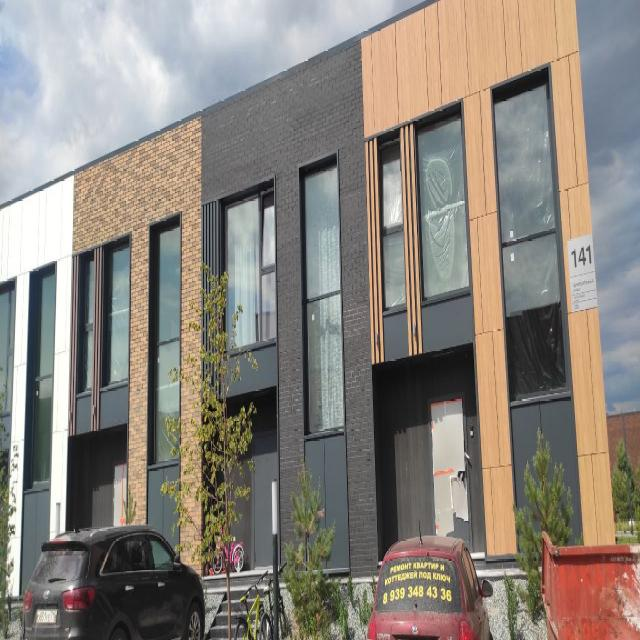Building: (0, 0, 617, 594)
